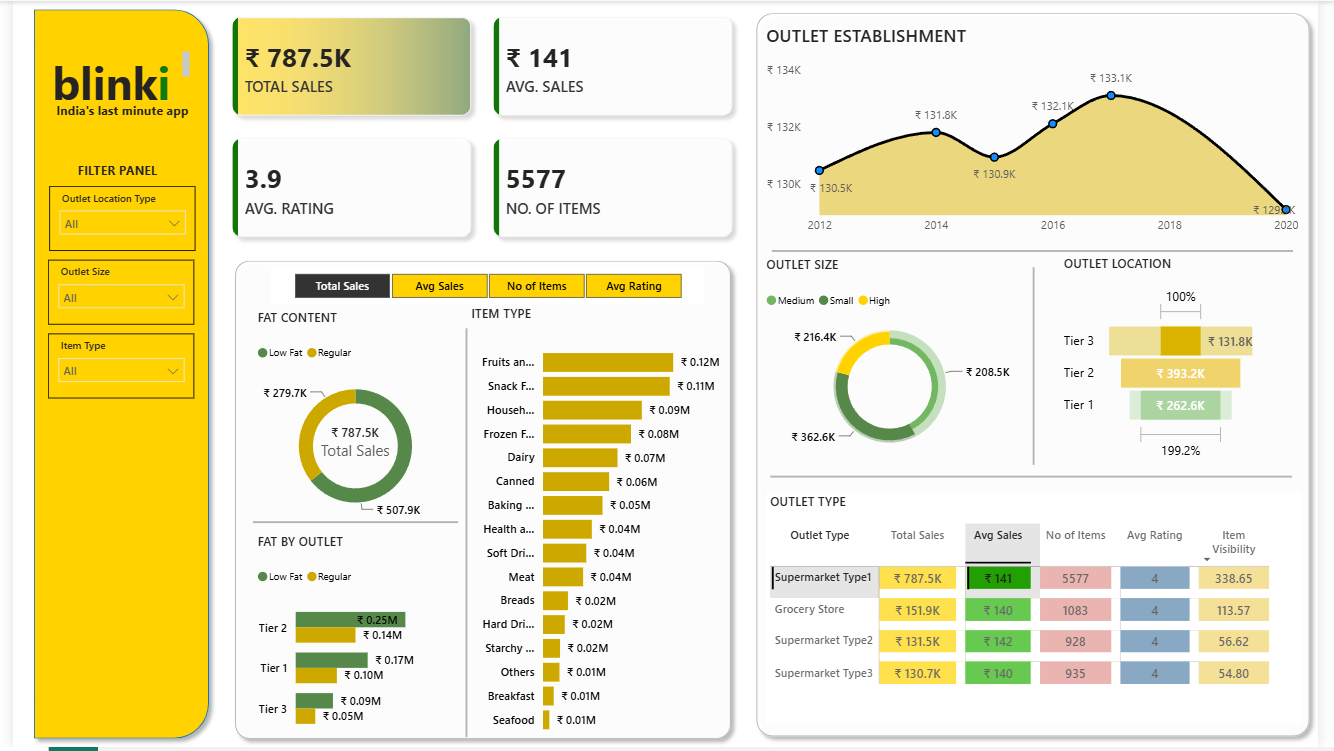

This screenshot's page, from the dashboard's own definition file:
{"tool":"powerbi","page":{"name":"Page 1","canvas":[1400,800],"ordinal":0},"visuals":[{"type":"shape","box":[12.9,0,205.7,800],"z":0},{"type":"textbox","box":[38,50,157,68],"z":1000},{"type":"textbox","box":[42.1,102.9,155.7,30],"z":2000},{"type":"cardVisual","fields":{"Data":["BlinkIT Grocery Data.Total Sales","BlinkIT Grocery Data.Avg Sales","BlinkIT Grocery Data.Avg Rating","BlinkIT Grocery Data.No of Items"]},"box":[218.6,0,570,270],"z":3000},{"type":"shape","box":[229.2,269.4,549.6,530.8],"z":4000},{"type":"donutChart","title":"FAT CONTENT","fields":{"Y":["BlinkIT Grocery Data.Total Sales"],"Category":["BlinkIT Grocery Data.Item Fat Content"]},"box":[257.1,330,220,240],"z":5000},{"type":"slicer","fields":{"Values":["Metrics.Metrics"]},"box":[275.7,285.7,465,40],"z":6000},{"type":"cardVisual","fields":{"Data":["BlinkIT Grocery Data.Total Sales"]},"box":[298.3,447.5,137.5,71.7],"z":7000},{"type":"clusteredBarChart","title":"FAT BY OUTLET","fields":{"Y":["BlinkIT Grocery Data.Total Sales"],"Category":["BlinkIT Grocery Data.Outlet Location Type"],"Series":["BlinkIT Grocery Data.Item Fat Content"]},"box":[256.9,570,220,230],"z":8000},{"type":"shape","box":[257.1,542.9,220,31.9],"z":9000},{"type":"shape","box":[477.3,350.9,18.2,438.2],"z":10000},{"type":"barChart","title":"ITEM TYPE","fields":{"Y":["BlinkIT Grocery Data.Total Sales"],"Category":["BlinkIT Grocery Data.Item Type"]},"box":[486.4,325.7,277.1,470.7],"z":11000},{"type":"shape","box":[788.8,3.8,611.2,793.8],"z":11001},{"type":"lineChart","title":"OUTLET ESTABLISHMENT","fields":{"Y":["BlinkIT Grocery Data.Total Sales"],"Category":["BlinkIT Grocery Data.Outlet Establishment Year"]},"box":[803,24.1,580.4,234.6],"z":11002},{"type":"shape","box":[813.7,253.4,559,29.5],"z":11003},{"type":"donutChart","title":"OUTLET SIZE","fields":{"Category":["BlinkIT Grocery Data.Outlet Size"],"Y":["BlinkIT Grocery Data.Total Sales"]},"box":[803,273.5,274.8,225.2],"z":11004},{"type":"shape","box":[1085.8,285.5,17.4,211.8],"z":11005},{"type":"funnel","title":"OUTLET LOCATION","fields":{"Category":["BlinkIT Grocery Data.Outlet Location Type"],"Y":["BlinkIT Grocery Data.Total Sales"]},"box":[1122,272.1,217.2,225.2],"z":11006},{"type":"shape","box":[812.3,494.6,559,30.8],"z":11007},{"type":"pivotTable","title":"OUTLET TYPE","fields":{"Values":["BlinkIT Grocery Data.Total Sales","BlinkIT Grocery Data.Avg Sales","BlinkIT Grocery Data.No of Items","BlinkIT Grocery Data.Avg Rating","Sum(BlinkIT Grocery Data.Item Visibility)"],"Rows":["BlinkIT Grocery Data.Outlet Type"]},"box":[807,526.8,575.1,248],"z":11008},{"type":"slicer","fields":{"Values":["BlinkIT Grocery Data.Outlet Location Type"]},"box":[38.9,198.4,156.8,69.7],"z":11009},{"type":"slicer","fields":{"Values":["BlinkIT Grocery Data.Outlet Size"]},"box":[37.5,277.5,156.8,69.7],"z":11010},{"type":"slicer","fields":{"Values":["BlinkIT Grocery Data.Item Type"]},"box":[37.5,356.6,156.8,69.7],"z":11011},{"type":"textbox","box":[64,168,105,30],"z":11012}]}

Visuals, with their boxes in screenshot pixels (x1, y1, x2, y2), scaled from the page's 1400x800 canvas onto the 1334x751 screenshot:
shape: bbox=[12, 0, 208, 750]
textbox: bbox=[36, 47, 186, 111]
textbox: bbox=[40, 97, 188, 125]
cardVisual - BlinkIT Grocery Data.Total Sales x BlinkIT Grocery Data.Avg Sales: bbox=[208, 0, 751, 253]
shape: bbox=[218, 253, 742, 750]
"FAT CONTENT" donutChart: bbox=[245, 310, 455, 535]
slicer - Metrics.Metrics: bbox=[263, 268, 706, 306]
cardVisual - BlinkIT Grocery Data.Total Sales: bbox=[284, 420, 415, 487]
"FAT BY OUTLET" clusteredBarChart: bbox=[245, 535, 454, 750]
shape: bbox=[245, 510, 455, 540]
shape: bbox=[455, 329, 472, 741]
"ITEM TYPE" barChart: bbox=[463, 306, 728, 748]
shape: bbox=[752, 4, 1333, 749]
"OUTLET ESTABLISHMENT" lineChart: bbox=[765, 23, 1318, 243]
shape: bbox=[775, 238, 1308, 266]
"OUTLET SIZE" donutChart: bbox=[765, 257, 1027, 468]
shape: bbox=[1035, 268, 1051, 467]
"OUTLET LOCATION" funnel: bbox=[1069, 255, 1276, 467]
shape: bbox=[774, 464, 1307, 493]
"OUTLET TYPE" pivotTable: bbox=[769, 495, 1317, 727]
slicer - BlinkIT Grocery Data.Outlet Location Type: bbox=[37, 186, 186, 252]
slicer - BlinkIT Grocery Data.Outlet Size: bbox=[36, 261, 185, 326]
slicer - BlinkIT Grocery Data.Item Type: bbox=[36, 335, 185, 400]
textbox: bbox=[61, 158, 161, 186]
